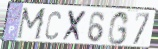6: (86, 11, 106, 44)
7: (133, 12, 151, 47)
C: (44, 10, 62, 41)
G: (106, 11, 131, 47)
M: (15, 7, 48, 42)
X: (61, 10, 89, 44)
